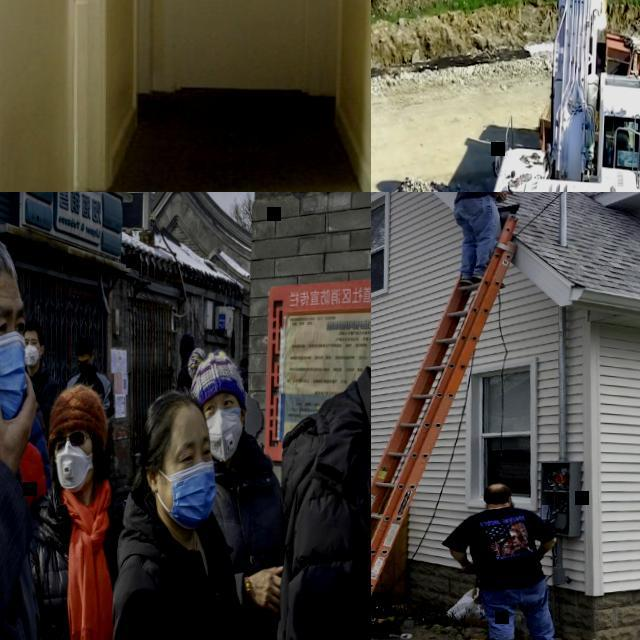machinery: (469, 0, 640, 192)
mask: (166, 460, 216, 531), (0, 330, 29, 434), (206, 406, 244, 462), (54, 442, 90, 494), (23, 344, 39, 368), (78, 361, 92, 377)
no_helmet: (142, 391, 208, 450), (48, 384, 108, 437), (190, 347, 246, 399), (482, 482, 509, 497), (73, 332, 93, 352), (24, 317, 42, 334), (178, 332, 194, 348), (238, 357, 250, 369)
no_vest: (295, 408, 371, 640), (37, 486, 136, 640), (122, 541, 255, 640), (210, 457, 279, 640), (466, 504, 546, 588), (28, 379, 51, 423), (238, 369, 248, 389), (178, 366, 187, 386)
person: (272, 253, 371, 640), (184, 348, 289, 640), (444, 481, 558, 640), (450, 192, 532, 289), (174, 334, 197, 394), (238, 352, 248, 389)
